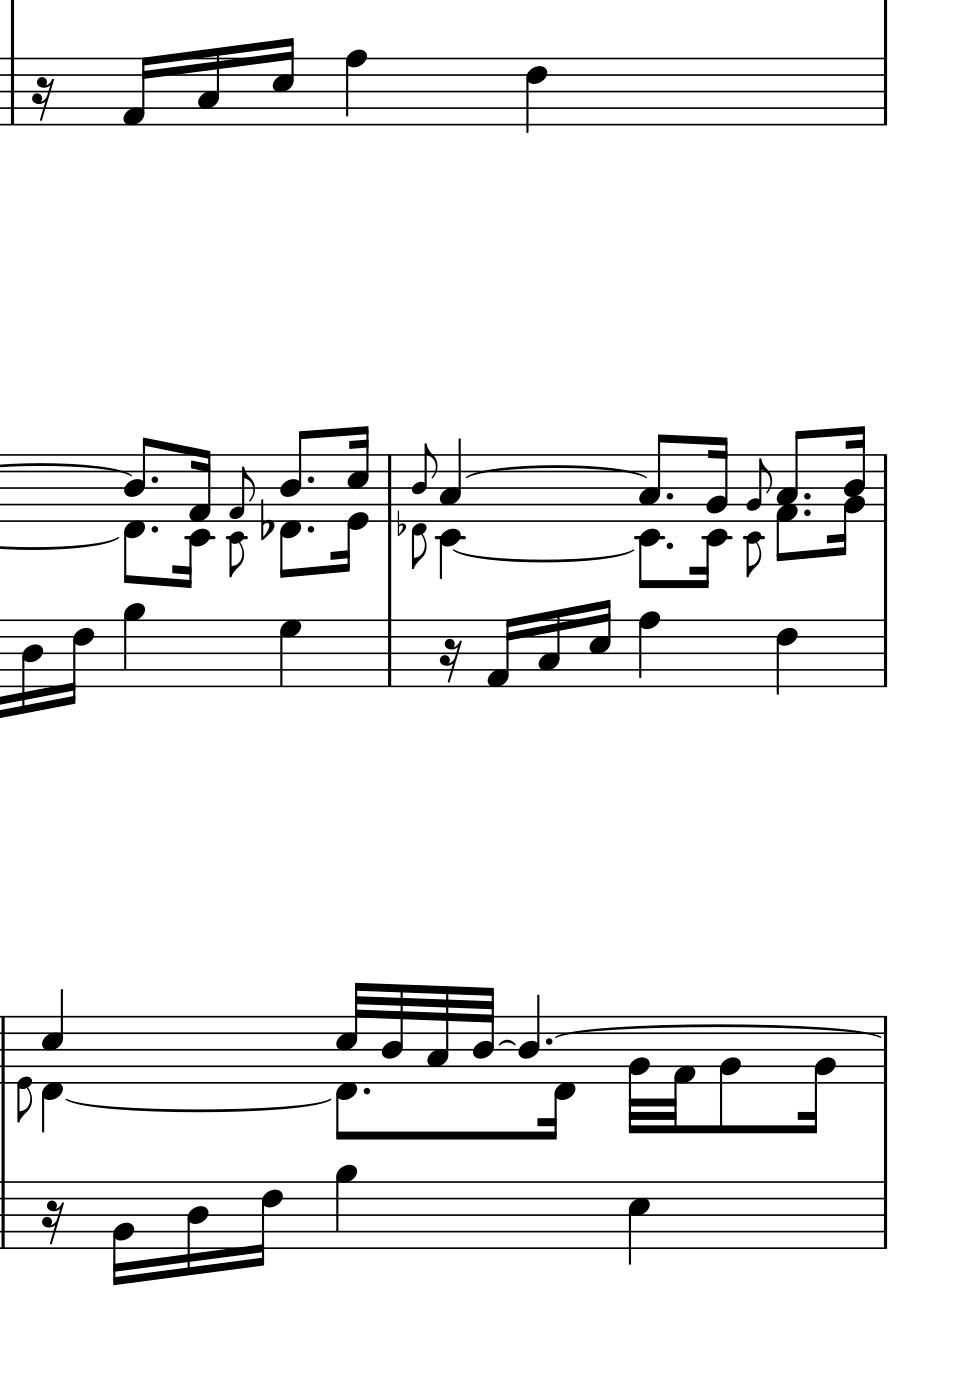16_-1: (540, 1014, 578, 1141)
16_-2_1: (174, 448, 212, 591)
16_-2_2: (693, 434, 729, 589)
16_0_5: (332, 424, 368, 573)
16_1: (484, 616, 518, 689), (121, 55, 153, 128)
16_2: (799, 1013, 836, 1136), (111, 1179, 135, 1286)
16_2_4: (826, 425, 867, 560)
16_3: (424, 985, 449, 1085), (536, 608, 561, 688), (196, 46, 221, 126)
16_4: (379, 982, 406, 1084), (183, 1179, 210, 1278), (18, 617, 43, 716)
16_5: (587, 596, 613, 688), (270, 35, 297, 126)
16_6: (248, 1178, 283, 1268), (60, 616, 94, 707)
32_1: (664, 1013, 695, 1136)
32_2: (625, 1013, 652, 1135)
32_4: (471, 986, 495, 1083)
32_5: (337, 981, 369, 1083)
4_-1_5: (40, 989, 65, 1131)
4_-2_3: (438, 437, 465, 579)
4_4: (517, 993, 541, 1083)
4_5: (626, 1179, 650, 1268)
4_6: (523, 55, 548, 135), (774, 618, 798, 696)
4_7: (277, 618, 303, 688)
4_8: (342, 48, 367, 127), (636, 610, 660, 688)
4_9: (121, 602, 145, 688), (334, 1163, 357, 1250)
8_-1_4: (279, 429, 312, 578), (122, 436, 151, 586)
8_-2_3: (638, 429, 671, 590)
8_1_3: (775, 429, 807, 563)
8_2: (718, 1015, 741, 1136)
Flat: (257, 498, 273, 541), (393, 509, 406, 536)
Rests16: (30, 75, 55, 122), (438, 637, 463, 684), (40, 1198, 65, 1246)
Single_barline: (3, 58, 20, 125), (876, 1182, 893, 1248), (381, 454, 397, 521), (876, 620, 892, 687), (876, 59, 892, 125), (381, 620, 397, 686), (877, 453, 892, 522), (878, 1016, 892, 1085), (1, 1181, 11, 1248), (1, 1016, 10, 1082)
Slur: (65, 1098, 332, 1116), (450, 549, 631, 567), (463, 464, 647, 480), (497, 1039, 518, 1047)
dot: (148, 473, 162, 487), (148, 522, 162, 536), (360, 1084, 373, 1098), (662, 489, 675, 503), (800, 506, 813, 519), (304, 522, 317, 536), (663, 539, 676, 552), (801, 490, 813, 502), (542, 1035, 554, 1048), (304, 474, 316, 486)
